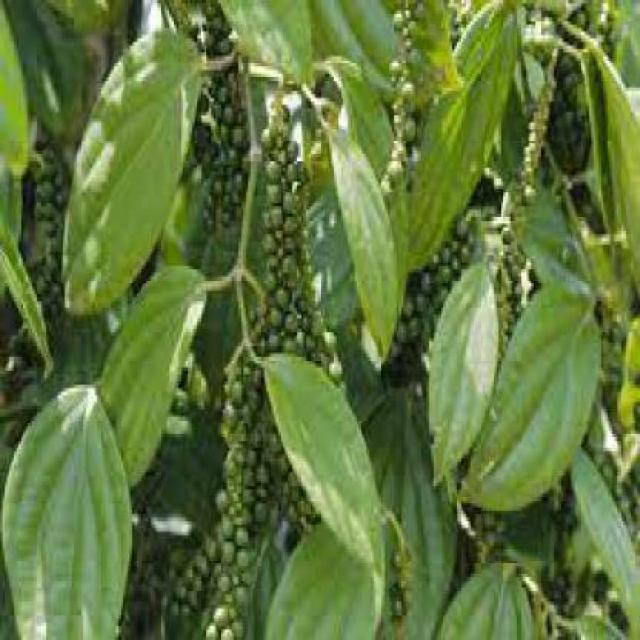UNRIPE: (263, 88, 314, 371), (214, 351, 261, 634), (19, 109, 63, 368), (196, 0, 239, 231), (376, 11, 422, 195)
